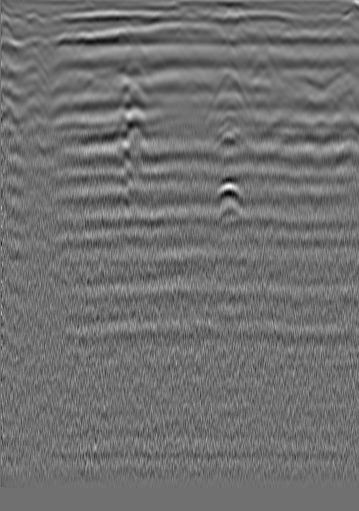가스: (208, 174, 246, 205)
상수: (303, 28, 323, 48)
오수: (23, 10, 43, 30)
우수: (169, 30, 189, 50)
